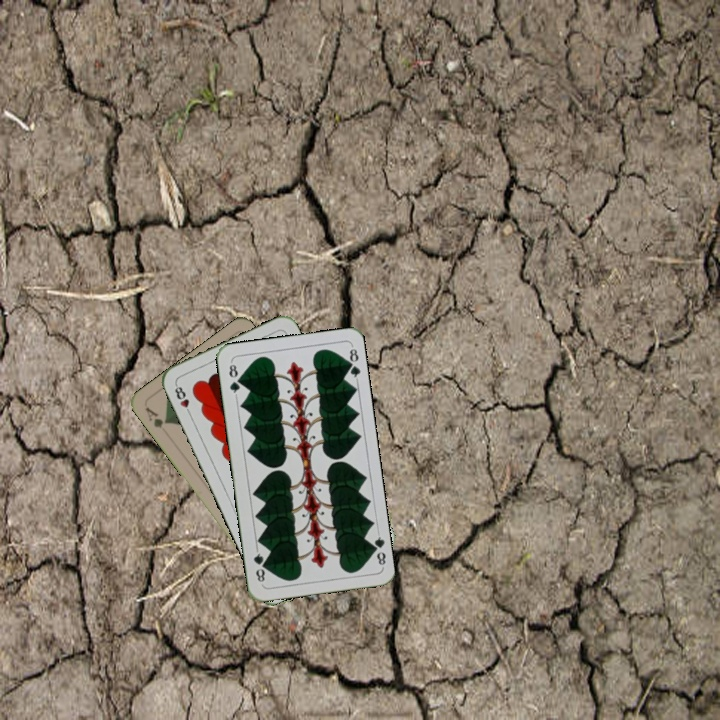G8: (366, 529, 388, 569), (225, 358, 243, 399)
GA: (141, 403, 170, 431)
H8: (170, 380, 194, 418)
